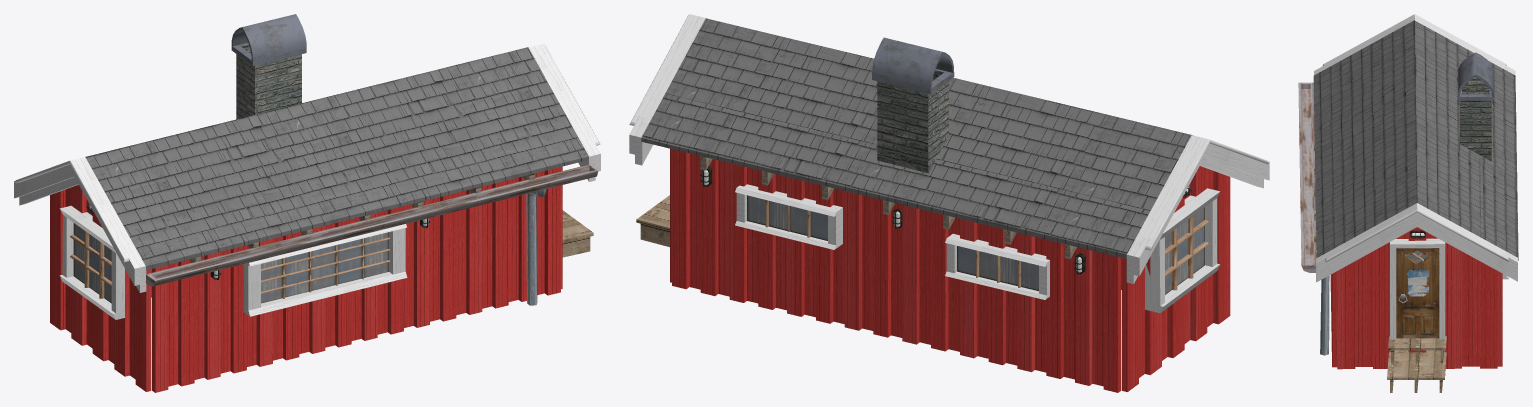
The model's file is House.fbx.
3 views of the same model, side by side, from view 1: azimuth 30°, elevation 25°; view 2: azimuth 150°, elevation 25°; view 3: azimuth 270°, elevation 25° (orthographic). The views are drawn at different scales.
Visible parts, largest first — view 1: House; view 2: House; view 3: House.
Boxes of the visible parts, x1=… form: House: x1=14, y1=14, x2=600, y2=392; House: x1=629, y1=14, x2=1269, y2=392; House: x1=1298, y1=14, x2=1518, y2=392.
Size of the model in its own units: 921 by 450 by 410.
7 materials, 6 textured.
